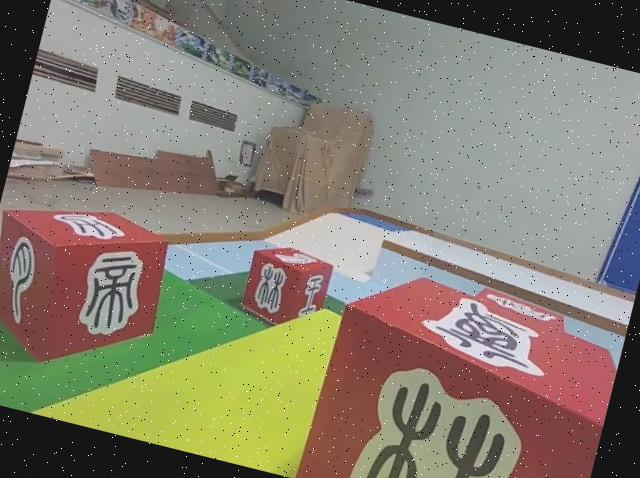R2 Fake: (291, 253, 629, 478), (0, 179, 182, 387), (234, 234, 338, 336)
